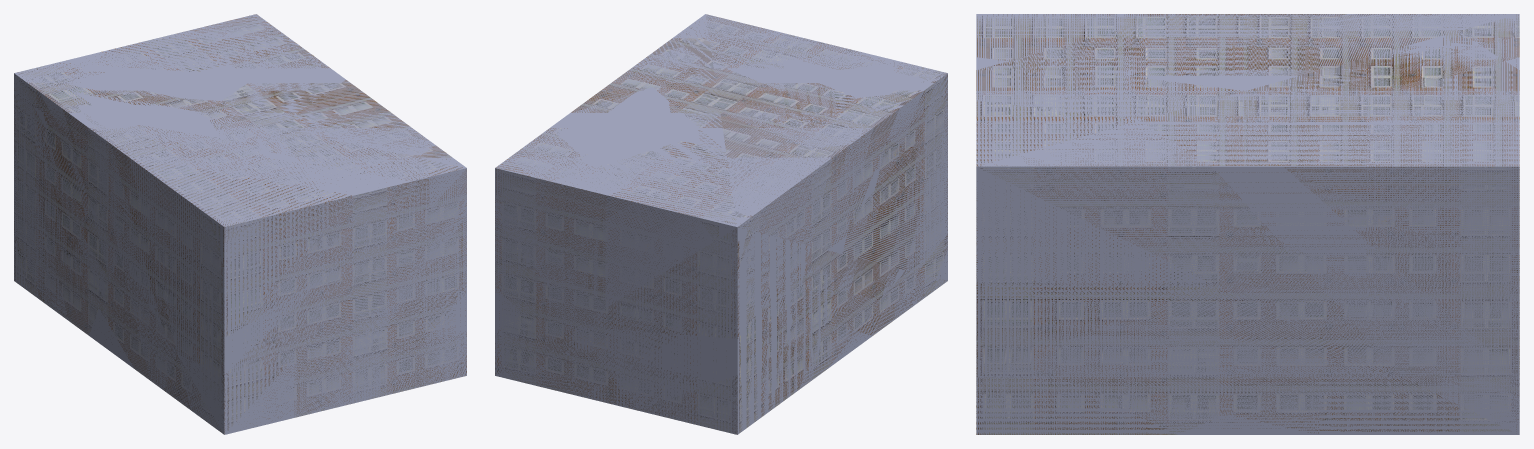
The model's file is panelak2.fbx.
3 renders of one model, left to right at view 1: azimuth 30°, elevation 25°; view 2: azimuth 150°, elevation 25°; view 3: azimuth 270°, elevation 25°, orthographic. The views are drawn at different scales.
Visible parts, largest first — view 1: Model; view 2: Model; view 3: Model.
Part boxes in pixels (x1=…): Model: x1=14, y1=14, x2=466, y2=434; Model: x1=495, y1=14, x2=947, y2=434; Model: x1=976, y1=14, x2=1519, y2=434.
Size of the model in its own units: 13.12 by 10.74 by 19.72.
3 materials, 1 textured.
